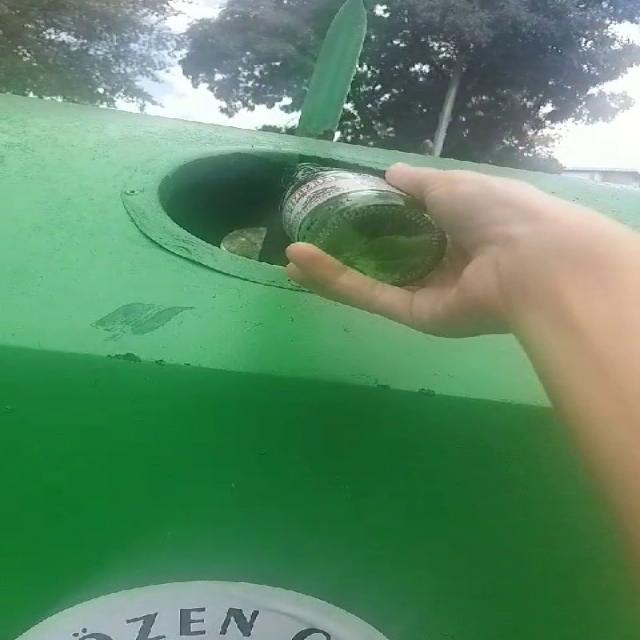Glass: (280, 164, 445, 285)
